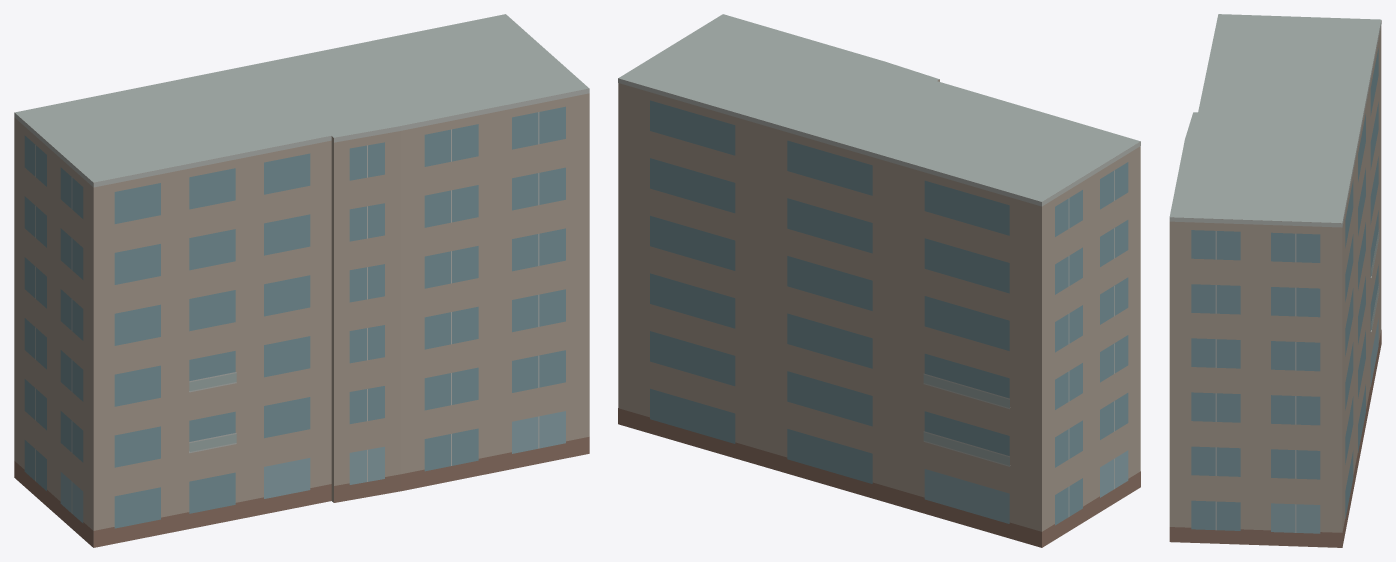
The model's file is survey-upis-33042567.glb.
The picture shows the model from 3 angles, left to right: view 1: azimuth 30°, elevation 25°; view 2: azimuth 150°, elevation 25°; view 3: azimuth 270°, elevation 25°; orthographic projection. The views are drawn at different scales.
Parts seen in each view (by area): view 1: survey-upis-33042567.tmp; view 2: survey-upis-33042567.tmp; view 3: survey-upis-33042567.tmp.
Boxes of the visible parts, <box> form: survey-upis-33042567.tmp: <box>14,14,589,547</box>; survey-upis-33042567.tmp: <box>618,14,1140,547</box>; survey-upis-33042567.tmp: <box>1169,14,1381,547</box>.
Bounding box in the file's own units: 25.29 × 18.3 × 10.84.
